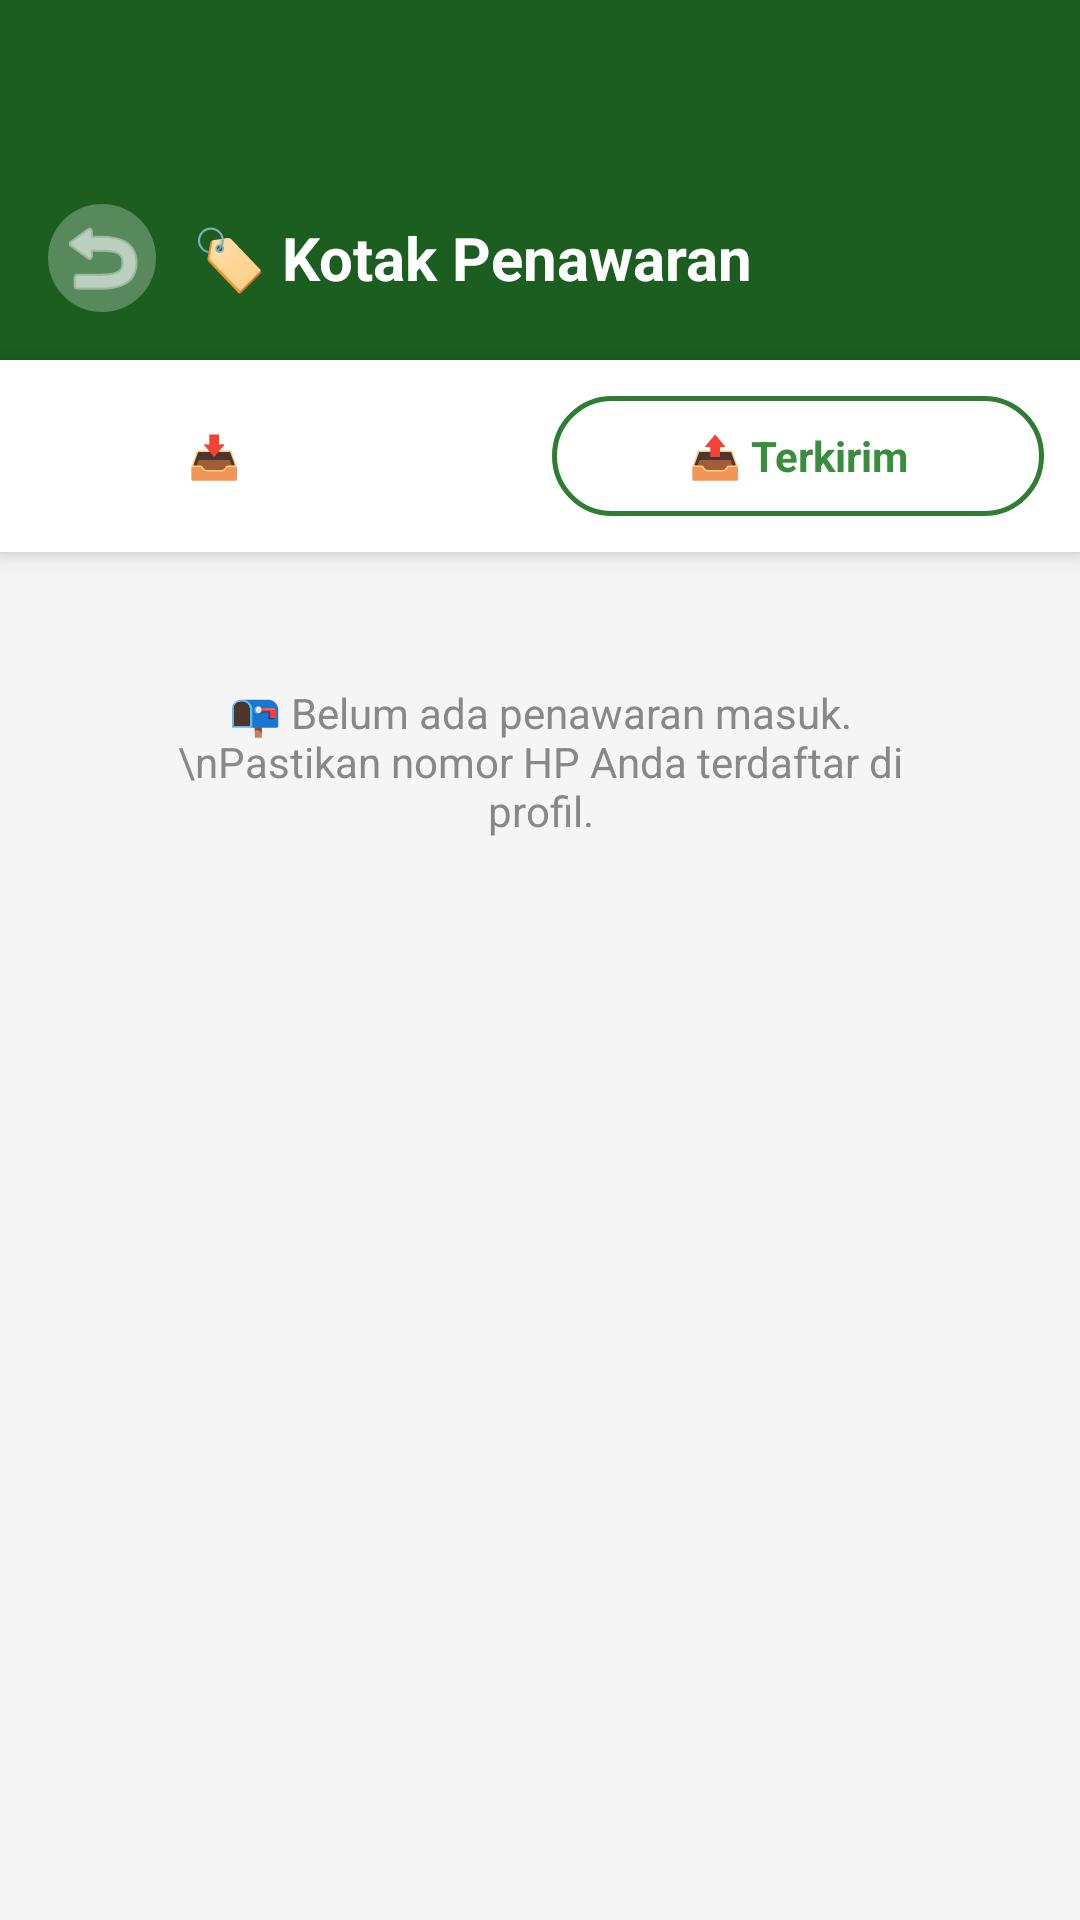

Icons on this 1080 × 1920 Android screen, each with the point to tap as (x=x, y=y):
revert: (x=102, y=258)
